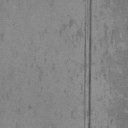surface scratch: (83, 0, 93, 128)
